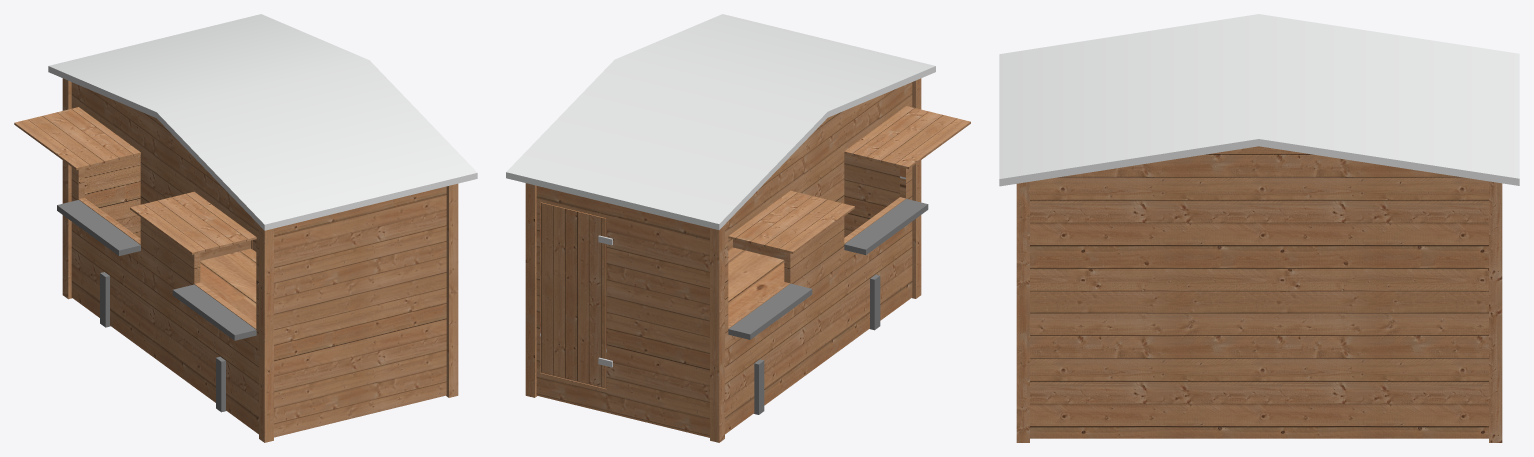
Rendered from Chalet.fbx.
3 renders of one model, left to right at view 1: azimuth 30°, elevation 25°; view 2: azimuth 150°, elevation 25°; view 3: azimuth 270°, elevation 25°, orthographic. The views are drawn at different scales.
Parts seen in each view (by area): view 1: Chalet; view 2: Chalet; view 3: Chalet.
Part boxes in pixels (box(x1,y1,x2,y2)): Chalet: box(14, 14, 477, 442); Chalet: box(506, 14, 970, 442); Chalet: box(999, 14, 1519, 442).
Bounding box in the file's own units: 313 × 290 × 439.
